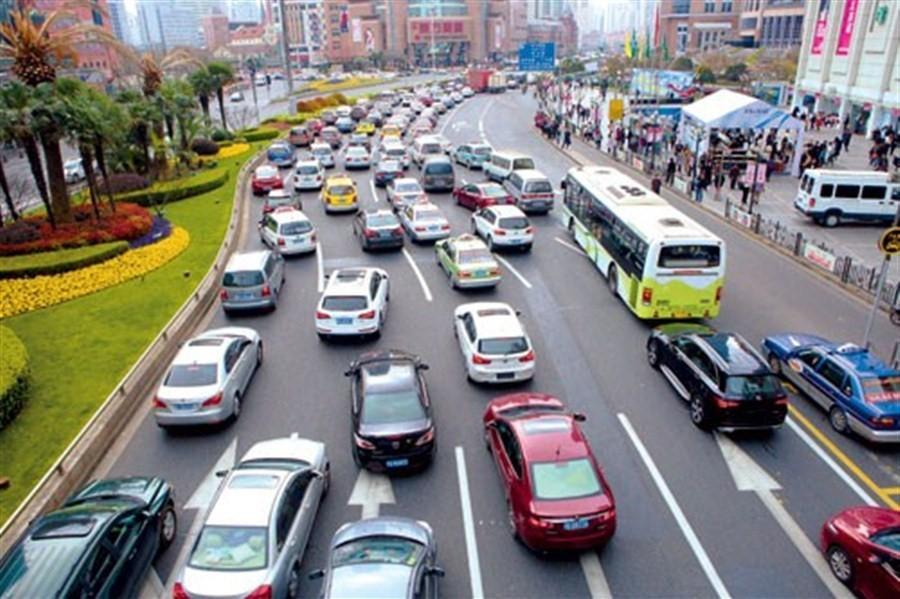HeavyVehicle: (559, 164, 728, 319)
LightVehicle: (170, 433, 329, 599), (477, 391, 637, 552), (643, 323, 791, 435), (148, 324, 266, 438), (343, 351, 447, 473), (453, 299, 538, 383), (309, 265, 394, 346), (792, 167, 899, 226), (221, 250, 289, 319), (321, 176, 358, 217)
